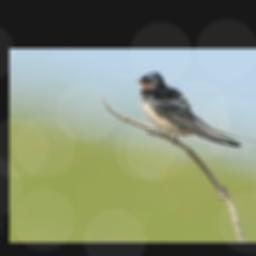Swallow: (136, 71, 256, 147)
